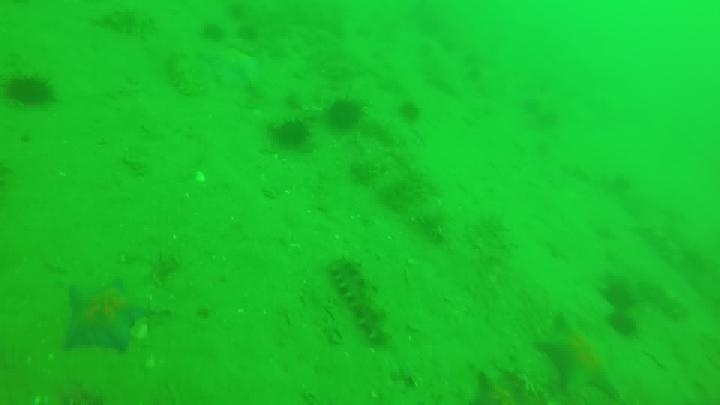echinus: (4, 72, 57, 110), (268, 116, 313, 152), (324, 96, 366, 133), (598, 277, 637, 311), (606, 310, 640, 339), (396, 98, 424, 125), (198, 21, 226, 44), (236, 23, 259, 43), (226, 7, 249, 23)
holothurian: (328, 256, 394, 346), (90, 6, 159, 39), (47, 381, 107, 405)
starfish: (533, 312, 625, 401), (59, 278, 163, 356), (465, 367, 525, 403)
